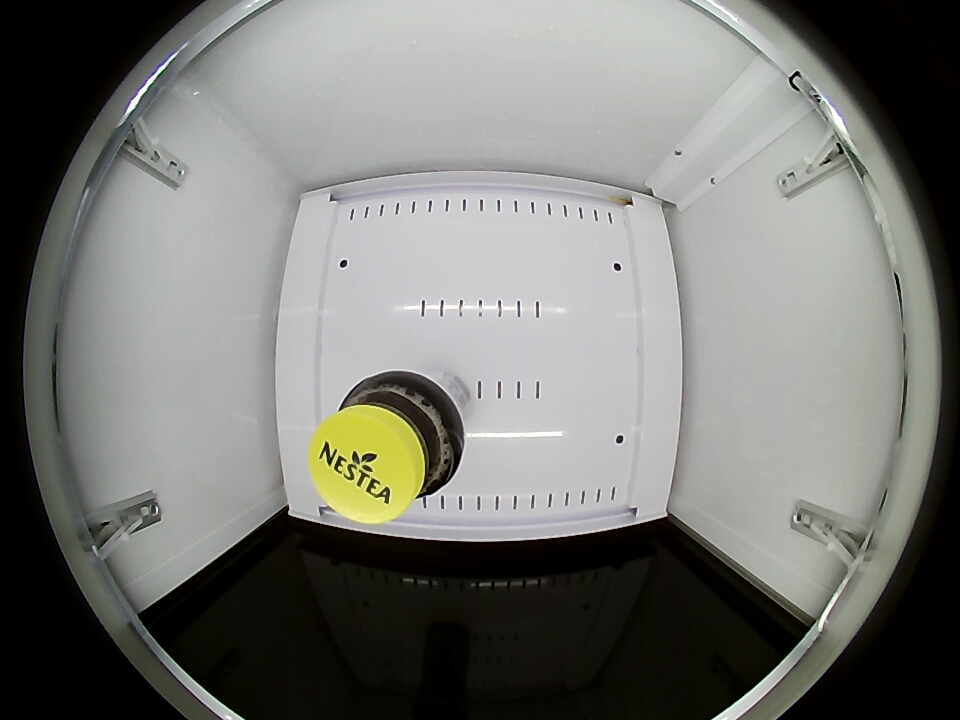chacui: (309, 373, 462, 523)
